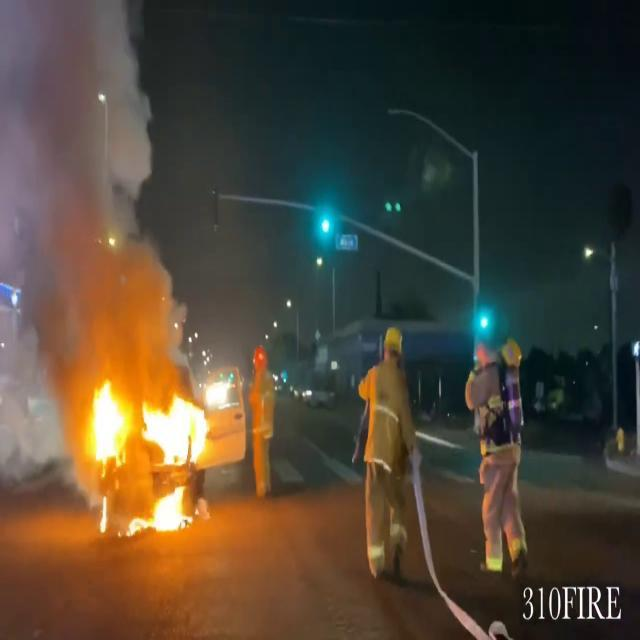Fire: (84, 355, 226, 535)
Smoke: (0, 0, 182, 379)
